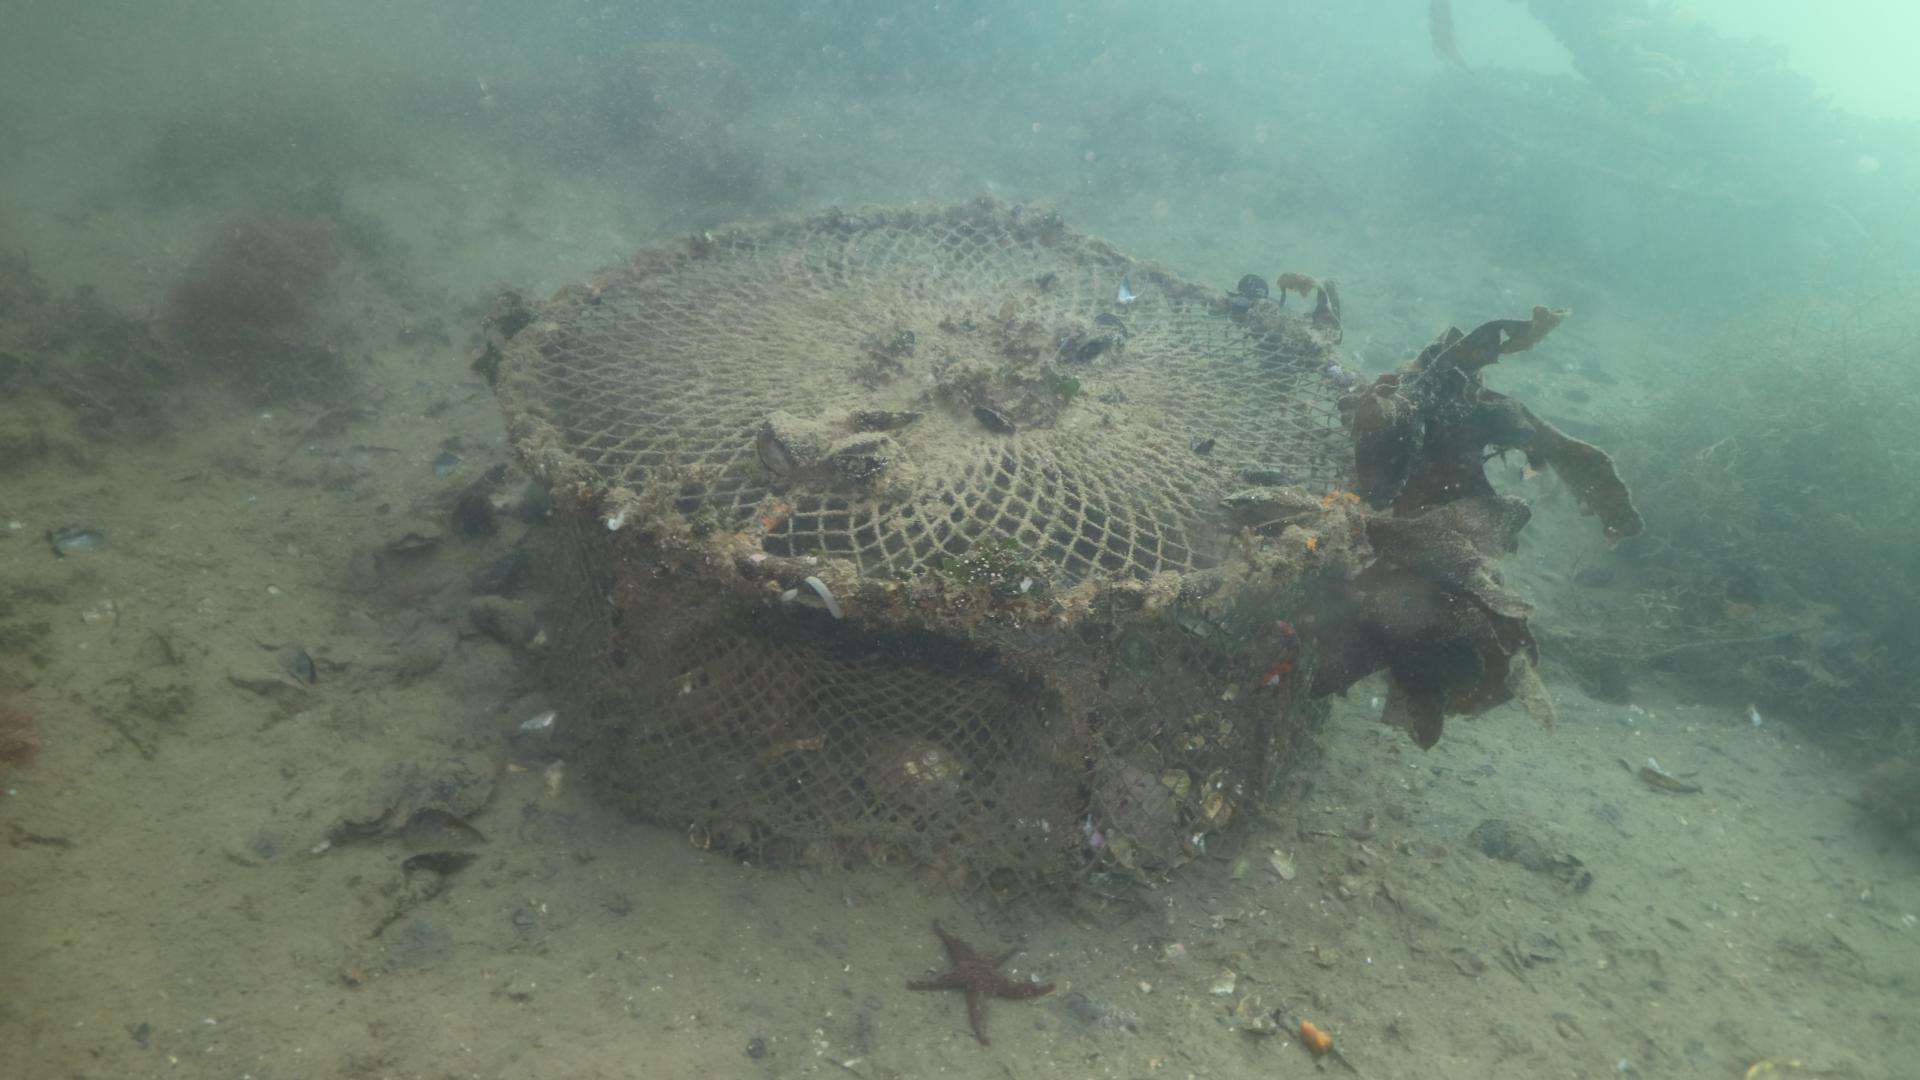circular fish trap: (493, 204, 1365, 907)
